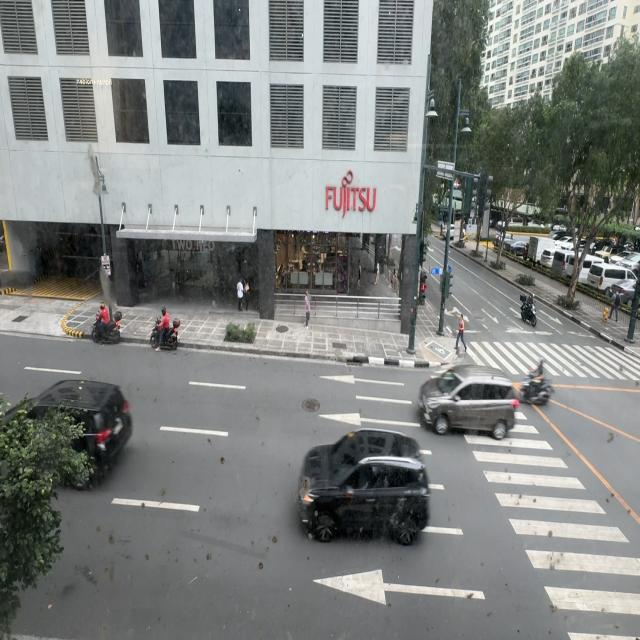crossing: (454, 311, 466, 351)
